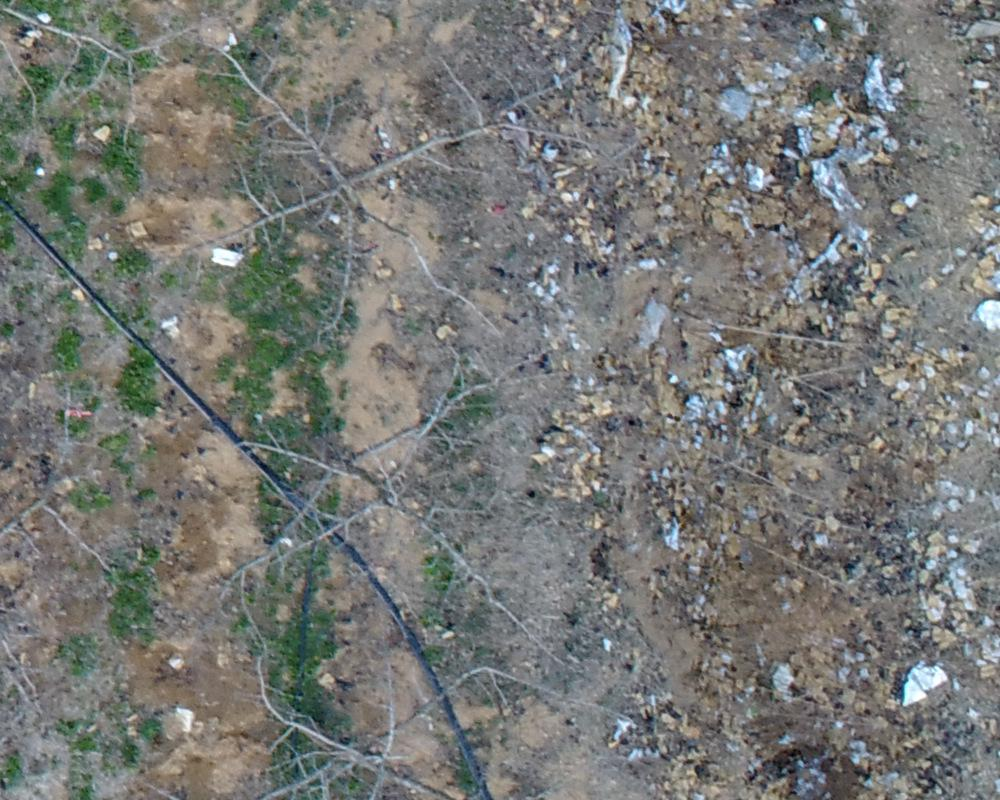apple: (180, 22, 654, 342), (189, 357, 604, 647), (201, 604, 644, 790)
